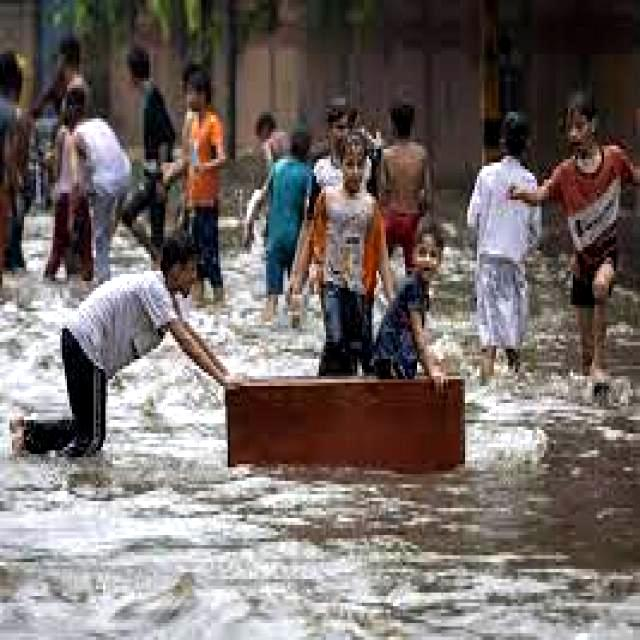civilian: (0, 221, 250, 470), (506, 88, 638, 401), (293, 118, 386, 386), (469, 97, 551, 396), (66, 86, 146, 298), (112, 42, 182, 266), (177, 62, 233, 305), (380, 214, 457, 376), (372, 91, 438, 273), (305, 89, 383, 240), (254, 127, 309, 339), (0, 35, 40, 292), (40, 19, 91, 132), (243, 118, 297, 167)
